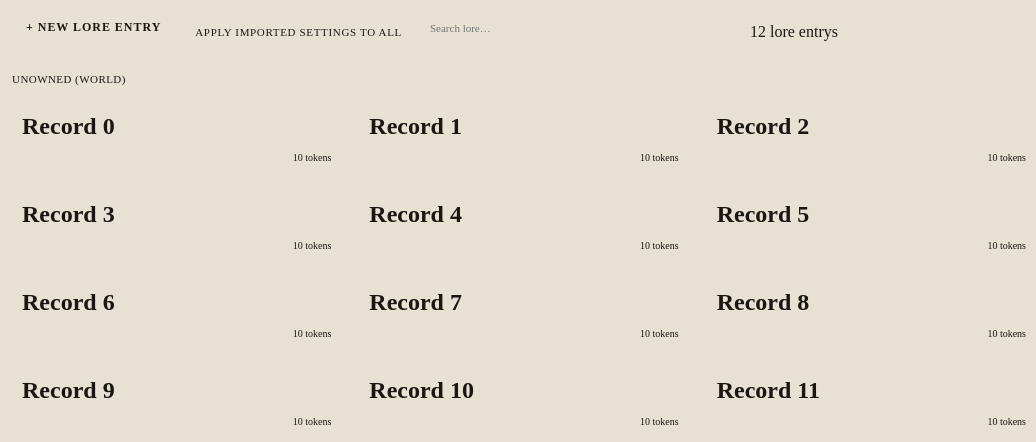
Test: a long roster can be filtered, and says how much of it is showing
Expected: the text "Record 0" is shown, x1=22 y1=113 x2=115 y2=139
Expected: the text "12 lores?" is shown, x1=750 y1=22 x2=838 y2=40
In the search field labelled "Search lore…": (582, 28) x1=422 y1=16 x2=742 y2=40, type "harbour"
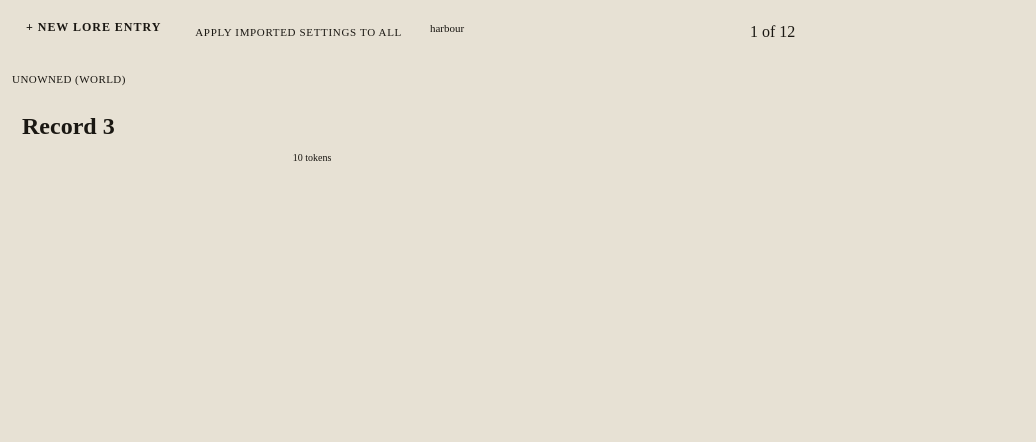
Expected: the text "Record 3" is shown, x1=22 y1=113 x2=115 y2=139
Expected: the text "1 of 12" is shown, x1=750 y1=22 x2=795 y2=40
Expected: the link "Record 0" is gone
